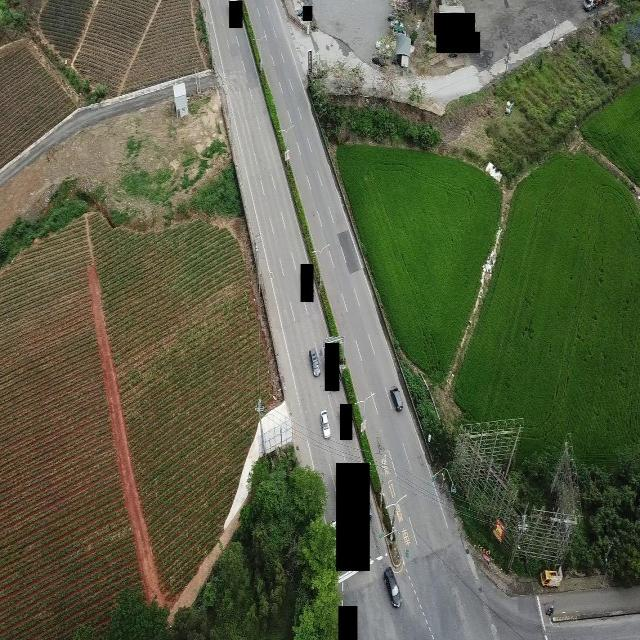car: (383, 566, 402, 607), (390, 385, 403, 412), (320, 408, 331, 439), (309, 348, 320, 377)
